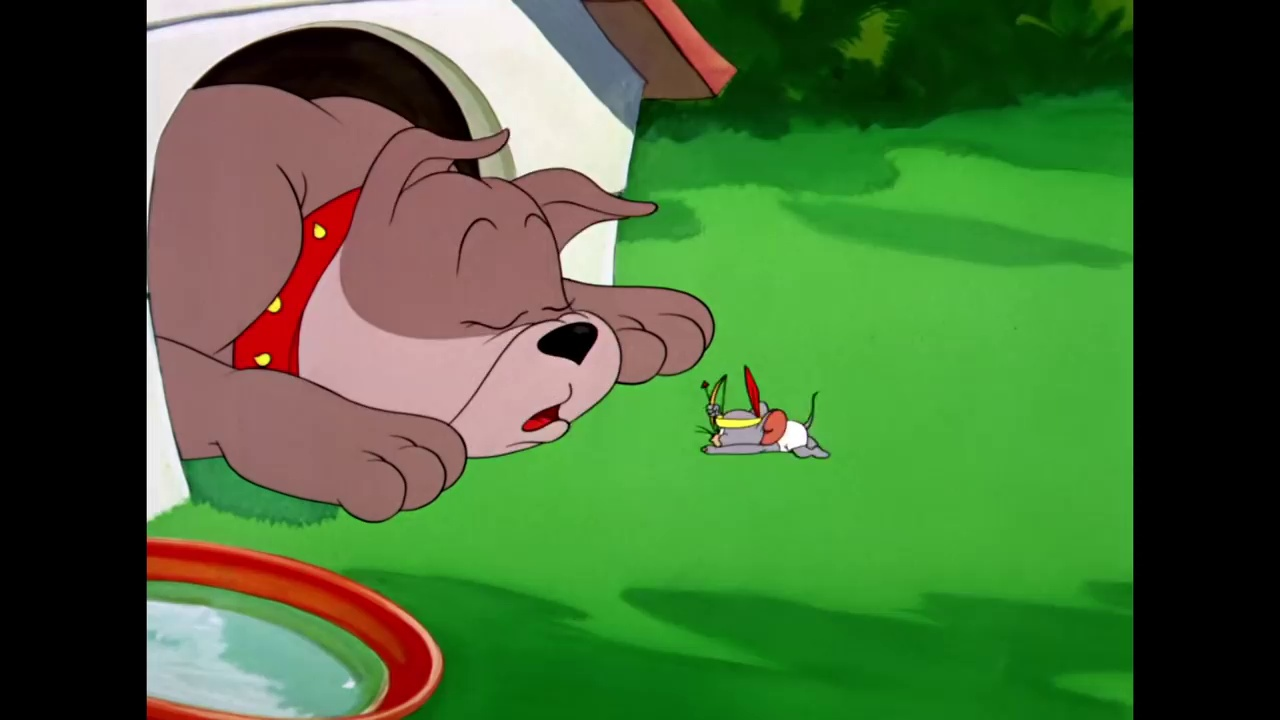spike: (254, 123, 623, 459)
